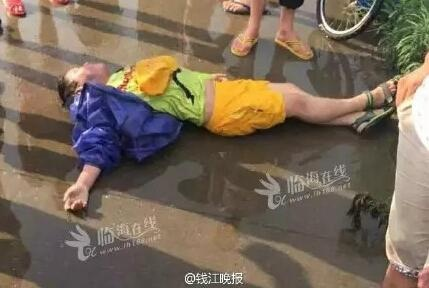falling: (37, 38, 400, 220)
